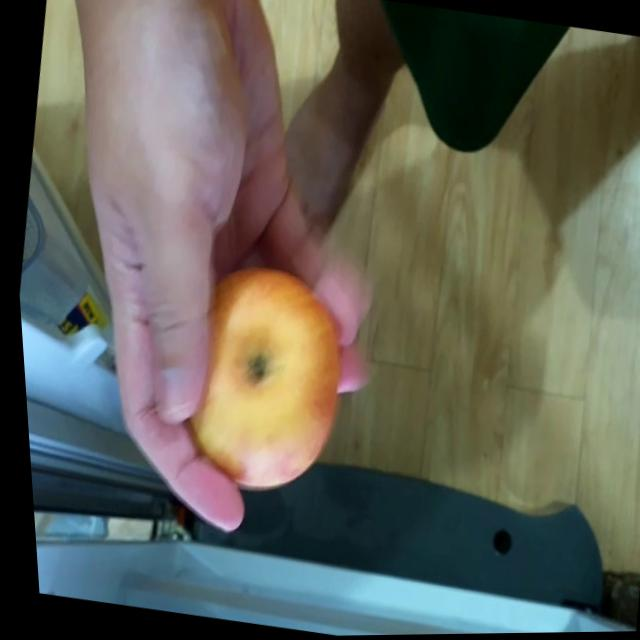apple: (153, 257, 361, 500)
